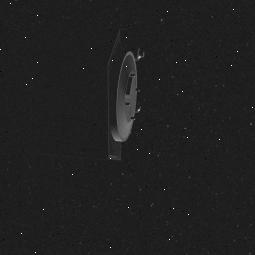cheops: (91, 30, 175, 175)
